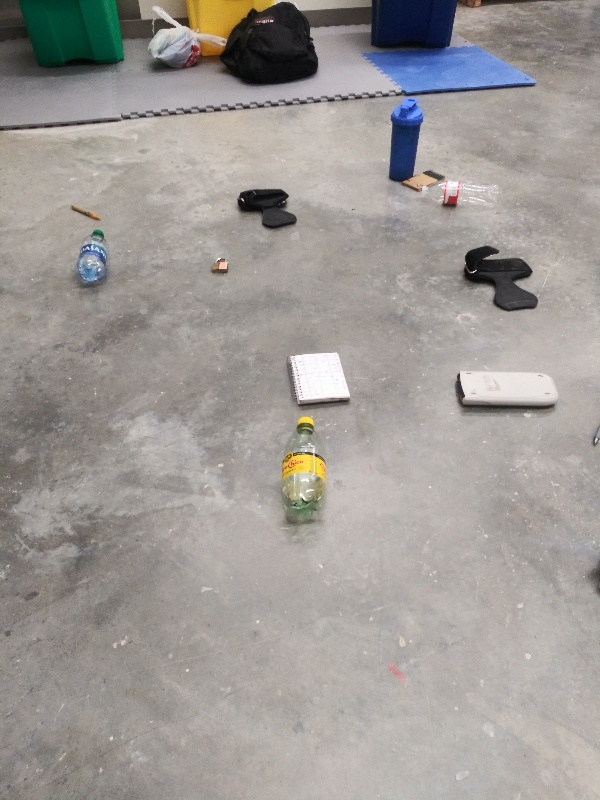bottle: (277, 414, 329, 525), (418, 179, 507, 213), (72, 225, 113, 284)
